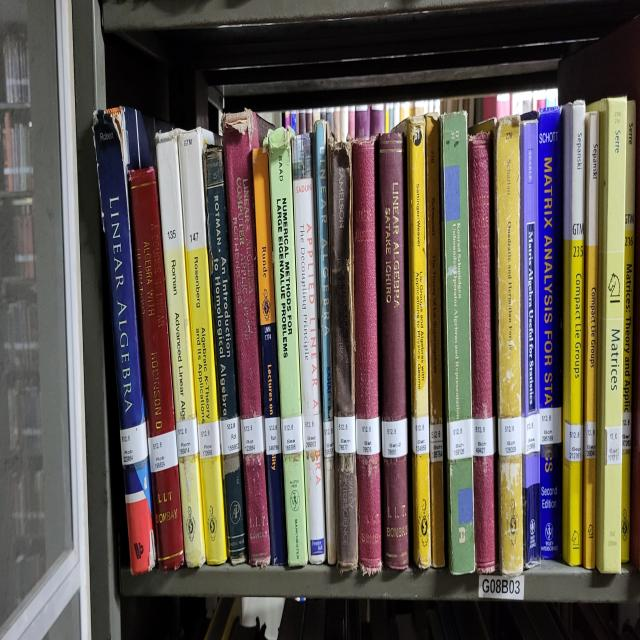Book: (94, 111, 155, 574), (129, 168, 185, 568), (222, 111, 271, 565), (156, 130, 206, 568), (178, 127, 228, 565), (262, 127, 309, 565), (202, 149, 246, 565), (590, 97, 628, 574), (440, 111, 475, 574), (252, 146, 288, 565), (291, 135, 326, 563), (495, 116, 524, 574), (379, 133, 409, 568), (328, 141, 358, 571), (352, 138, 381, 574), (468, 133, 496, 574), (406, 119, 431, 568), (562, 100, 585, 565), (539, 108, 562, 560), (314, 130, 336, 565), (520, 114, 541, 565), (426, 114, 445, 568), (582, 111, 599, 568), (621, 100, 636, 563)
Label: (148, 430, 178, 473), (120, 422, 148, 465), (381, 417, 408, 457), (446, 419, 472, 460), (355, 417, 380, 455), (176, 417, 199, 457), (472, 417, 495, 457), (498, 417, 521, 457), (241, 417, 265, 455), (198, 419, 220, 460), (334, 417, 356, 455), (220, 417, 241, 455), (281, 417, 302, 455), (540, 406, 561, 444), (522, 414, 540, 455), (565, 422, 582, 463), (302, 414, 320, 452), (411, 417, 429, 455), (605, 425, 622, 465), (265, 417, 281, 455), (430, 422, 442, 463), (584, 422, 596, 460), (324, 419, 334, 457), (622, 411, 631, 449)
